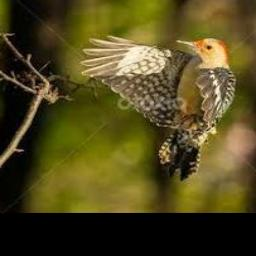Woodpecker: (81, 35, 237, 180)
